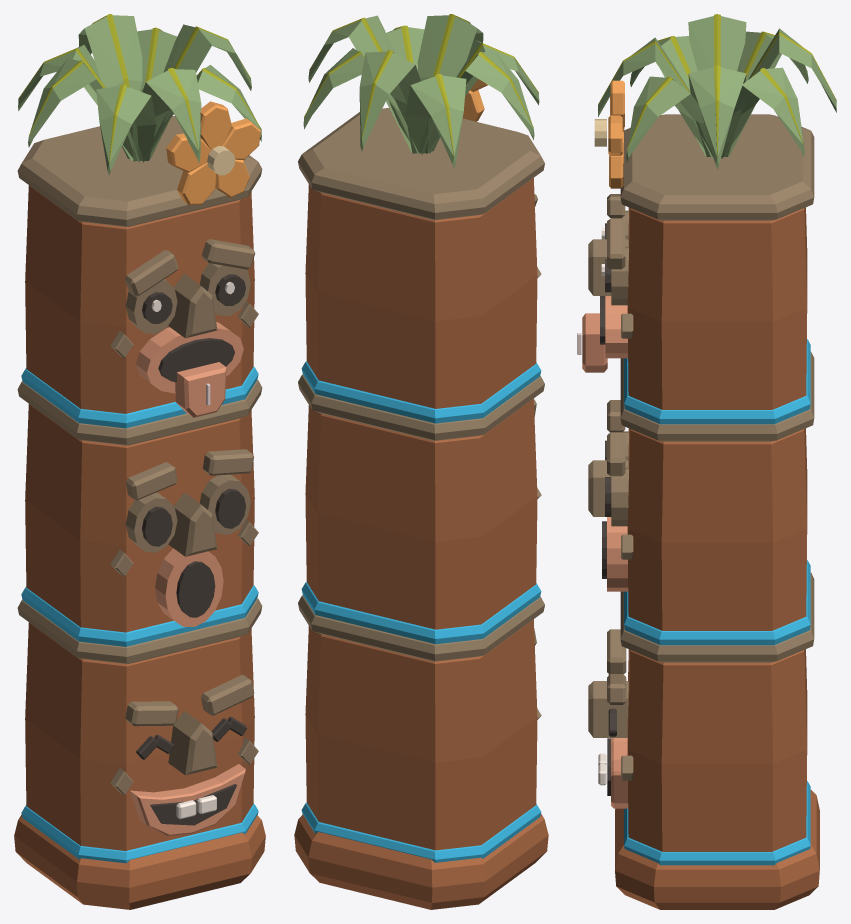
File: tikiTotem.glb
3 renders of one model, left to right at view 1: azimuth 30°, elevation 25°; view 2: azimuth 150°, elevation 25°; view 3: azimuth 270°, elevation 25°, orthographic.
Visible parts, largest first — view 1: tikiTotem; view 2: tikiTotem; view 3: tikiTotem.
Part boxes in pixels (left/top/right/bottom): tikiTotem: left=14, top=14, right=265, bottom=909; tikiTotem: left=294, top=14, right=548, bottom=909; tikiTotem: left=577, top=14, right=836, bottom=909.
Bounding box in the file's own units: 0.9 × 3.2 × 0.9.
Materials: 1 (1 with a texture image).
